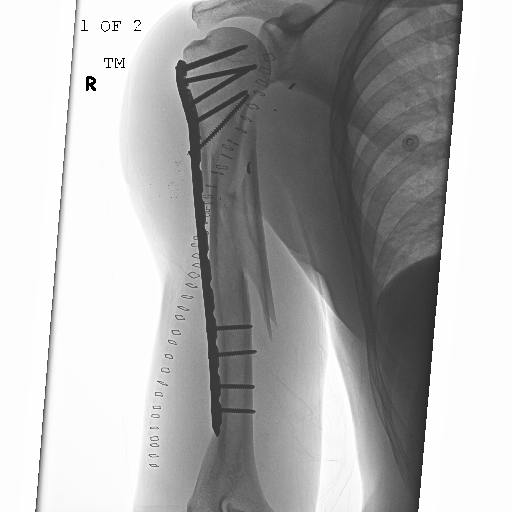implant: (165, 34, 266, 180), (202, 309, 260, 433)
